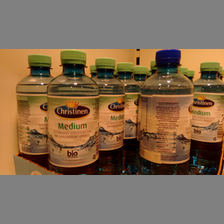water: (133, 49, 194, 175), (47, 50, 99, 174), (15, 54, 55, 160), (90, 58, 125, 173), (190, 61, 223, 172)
